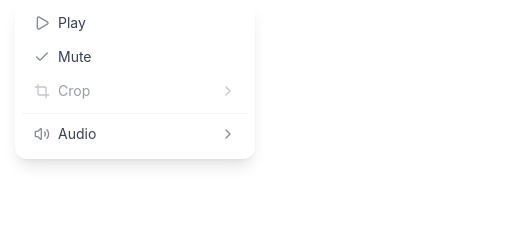
VideoMenu submenus (DrPlay style, APG) › a parent entry exposes haspopup/expanded and opens a nested DrPlay panel
The width and height of the screenshot is (517, 226).
What coordinates should you click on to do the following:
click the menu item "Audio"
I would click on:
 (135, 134)
Its box is [22,118,248,150].
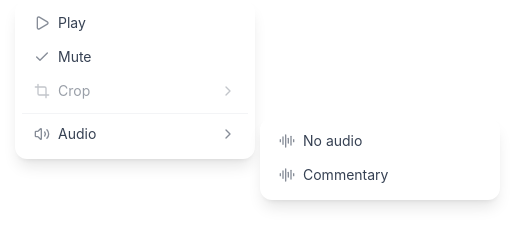
Expected: the menu is shown, [260,118,500,200]
